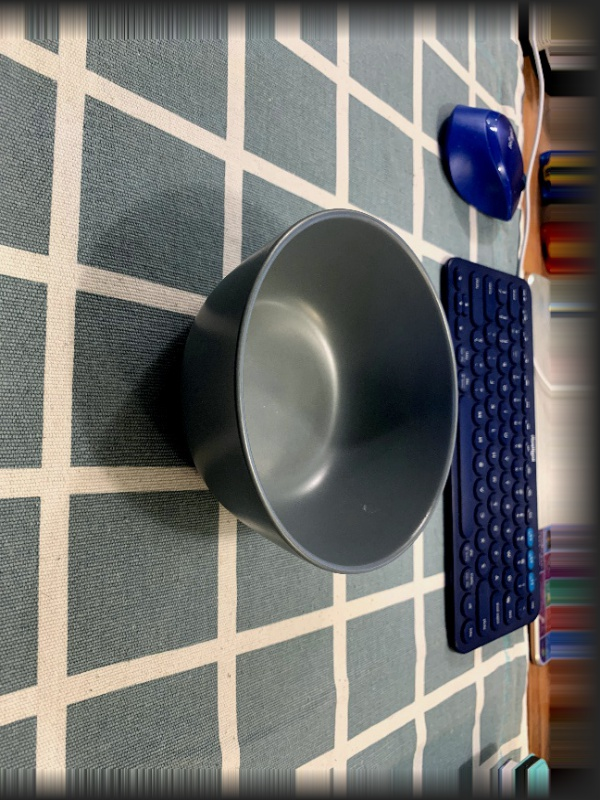bowl_big: (173, 200, 462, 579)
